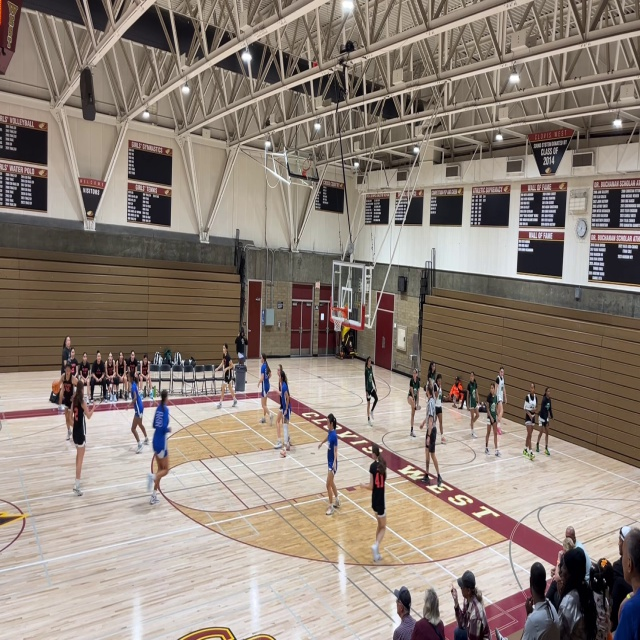Basketball: (52, 380, 61, 392)
